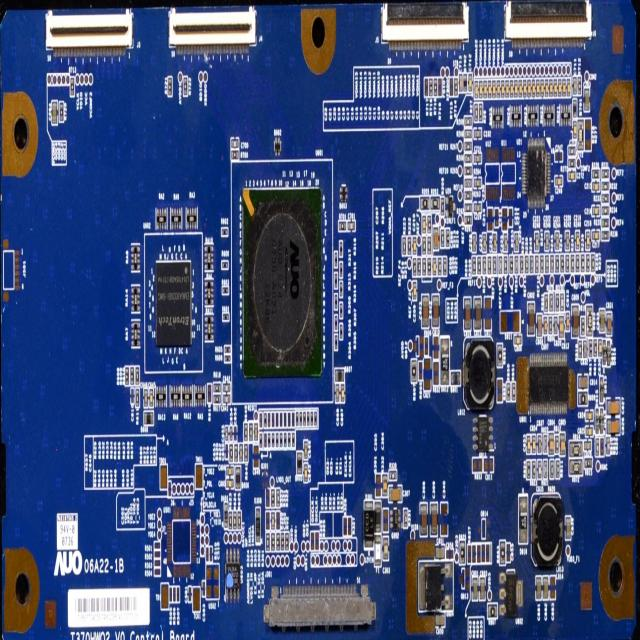Capacitor Jumper: (419, 504, 428, 538), (527, 302, 535, 336), (464, 297, 472, 330), (607, 417, 621, 435), (388, 485, 402, 502), (430, 502, 437, 536), (474, 297, 481, 330), (606, 398, 620, 414), (382, 536, 390, 564), (535, 575, 542, 602), (565, 516, 572, 542), (472, 125, 482, 143), (584, 86, 590, 115), (560, 432, 566, 459), (480, 575, 486, 602), (578, 374, 588, 390), (52, 100, 58, 126), (600, 309, 606, 335), (542, 575, 548, 601), (472, 576, 478, 602), (432, 225, 438, 250), (606, 311, 612, 336), (558, 314, 564, 339), (536, 313, 542, 337), (296, 451, 302, 475), (473, 200, 483, 214), (482, 231, 488, 254), (472, 231, 478, 254), (548, 433, 554, 456), (544, 231, 550, 253), (302, 439, 308, 461), (473, 153, 483, 166), (592, 204, 601, 218), (492, 232, 498, 253), (534, 231, 540, 251), (526, 431, 531, 454), (483, 78, 488, 100), (584, 411, 594, 422), (435, 547, 445, 558), (473, 176, 482, 188), (474, 79, 479, 100), (553, 315, 558, 336), (335, 384, 340, 405), (149, 388, 154, 409), (537, 434, 542, 455), (592, 180, 600, 193), (348, 219, 356, 232), (383, 473, 387, 499), (522, 78, 528, 95), (422, 214, 427, 234), (555, 231, 560, 251), (503, 232, 508, 252), (412, 235, 417, 255), (432, 256, 437, 276), (565, 312, 570, 332), (543, 315, 548, 335), (583, 340, 588, 360), (340, 384, 345, 404), (531, 434, 536, 454), (537, 460, 542, 480), (585, 427, 594, 438), (526, 79, 532, 95), (231, 136, 239, 148), (592, 230, 600, 242), (514, 335, 522, 347), (553, 78, 558, 97), (562, 78, 567, 97), (468, 72, 472, 95), (566, 78, 571, 96), (496, 79, 501, 97), (500, 79, 505, 97), (540, 79, 545, 97), (488, 78, 492, 100), (572, 118, 576, 140), (566, 230, 570, 252), (254, 420, 258, 442), (226, 466, 234, 477), (509, 80, 514, 97), (479, 79, 483, 100), (576, 231, 580, 252), (606, 435, 610, 456), (583, 441, 592, 450), (573, 76, 577, 96), (558, 78, 562, 98), (568, 170, 576, 180), (586, 231, 590, 251), (515, 233, 519, 253), (413, 281, 417, 301), (222, 383, 230, 393), (222, 394, 230, 404), (304, 463, 308, 483), (459, 73, 463, 92), (598, 338, 602, 357), (144, 388, 148, 407), (271, 511, 275, 530), (532, 79, 536, 97), (514, 80, 518, 98), (518, 80, 522, 98), (536, 80, 540, 98), (506, 80, 510, 98), (555, 177, 563, 186), (226, 479, 234, 488), (549, 79, 553, 96), (545, 78, 549, 95), (229, 425, 233, 442), (493, 79, 496, 99), (224, 426, 228, 441)
Connector: (166, 8, 258, 56), (44, 9, 135, 57)
IC: (230, 162, 332, 399), (145, 235, 202, 372), (527, 352, 570, 418), (522, 135, 551, 211), (224, 547, 242, 607)
Resistor Jumper: (569, 440, 583, 457), (569, 460, 583, 476), (586, 304, 592, 336), (419, 196, 431, 211), (499, 540, 506, 564), (497, 343, 503, 368), (411, 360, 417, 385), (578, 391, 588, 406), (459, 539, 465, 564), (388, 468, 398, 482), (488, 604, 498, 618), (401, 235, 407, 257), (124, 365, 130, 386), (270, 530, 276, 551), (590, 168, 600, 180), (600, 168, 610, 180), (431, 195, 439, 210), (338, 220, 348, 232), (440, 228, 446, 248), (590, 253, 596, 273), (442, 257, 448, 277), (554, 292, 560, 312), (554, 434, 560, 454), (464, 213, 473, 226), (403, 507, 408, 530), (534, 255, 540, 274), (524, 255, 530, 274), (230, 149, 240, 160), (212, 382, 222, 393), (567, 158, 576, 170), (601, 192, 610, 204), (463, 202, 472, 214), (601, 205, 610, 217), (601, 218, 610, 230), (601, 229, 610, 241), (526, 460, 532, 478), (577, 75, 582, 96), (59, 101, 64, 122), (422, 235, 427, 256), (333, 249, 338, 270), (580, 252, 585, 273), (503, 254, 508, 275), (511, 382, 516, 403), (168, 76, 173, 96), (433, 77, 438, 97), (427, 236, 432, 256), (570, 254, 575, 274), (555, 254, 560, 274), (575, 254, 580, 274), (545, 254, 550, 274), (509, 255, 514, 275), (477, 255, 482, 275), (482, 256, 487, 276), (427, 256, 432, 276), (437, 257, 442, 277), (543, 434, 548, 454), (595, 436, 600, 456), (543, 459, 548, 479), (463, 153, 472, 164), (463, 165, 472, 176), (584, 457, 593, 468), (183, 78, 188, 97), (540, 254, 545, 273), (519, 255, 524, 274), (544, 294, 549, 313), (548, 316, 553, 335), (580, 317, 585, 336), (588, 339, 593, 358), (578, 340, 583, 359), (586, 252, 590, 275), (135, 387, 139, 410), (463, 117, 473, 126), (463, 128, 472, 138), (567, 146, 576, 156), (560, 254, 565, 272), (565, 254, 570, 272), (135, 366, 140, 384), (243, 423, 248, 441), (237, 512, 242, 530), (601, 180, 609, 191), (408, 235, 412, 257), (549, 293, 554, 310), (339, 301, 344, 318), (594, 338, 598, 359), (506, 381, 510, 402), (244, 443, 248, 464), (266, 532, 270, 553), (429, 78, 433, 98), (474, 102, 478, 122), (464, 178, 472, 188), (464, 190, 472, 200), (427, 214, 431, 234), (446, 228, 450, 248), (472, 256, 476, 276), (334, 291, 338, 311), (130, 366, 134, 386), (213, 394, 221, 404), (249, 422, 253, 442), (234, 442, 238, 462), (532, 460, 536, 480), (271, 488, 275, 508), (285, 532, 289, 552), (479, 102, 483, 121), (339, 239, 343, 258), (550, 254, 554, 273), (493, 255, 497, 274), (530, 256, 534, 275), (417, 258, 421, 277), (413, 258, 417, 277), (339, 261, 343, 280), (334, 271, 338, 290), (339, 280, 343, 299), (276, 488, 280, 507), (228, 512, 232, 531), (464, 142, 472, 151), (441, 197, 445, 215), (488, 256, 492, 274), (422, 257, 426, 275), (334, 314, 338, 332), (334, 333, 338, 351), (233, 512, 237, 529), (276, 533, 280, 550), (222, 227, 228, 237), (222, 260, 228, 270), (223, 312, 229, 322), (340, 321, 343, 340), (230, 444, 233, 462), (281, 533, 284, 551), (224, 356, 231, 363), (222, 288, 230, 294), (225, 346, 231, 354)
Transistor: (418, 561, 454, 613), (498, 567, 523, 617), (472, 414, 496, 453), (390, 508, 401, 530)
